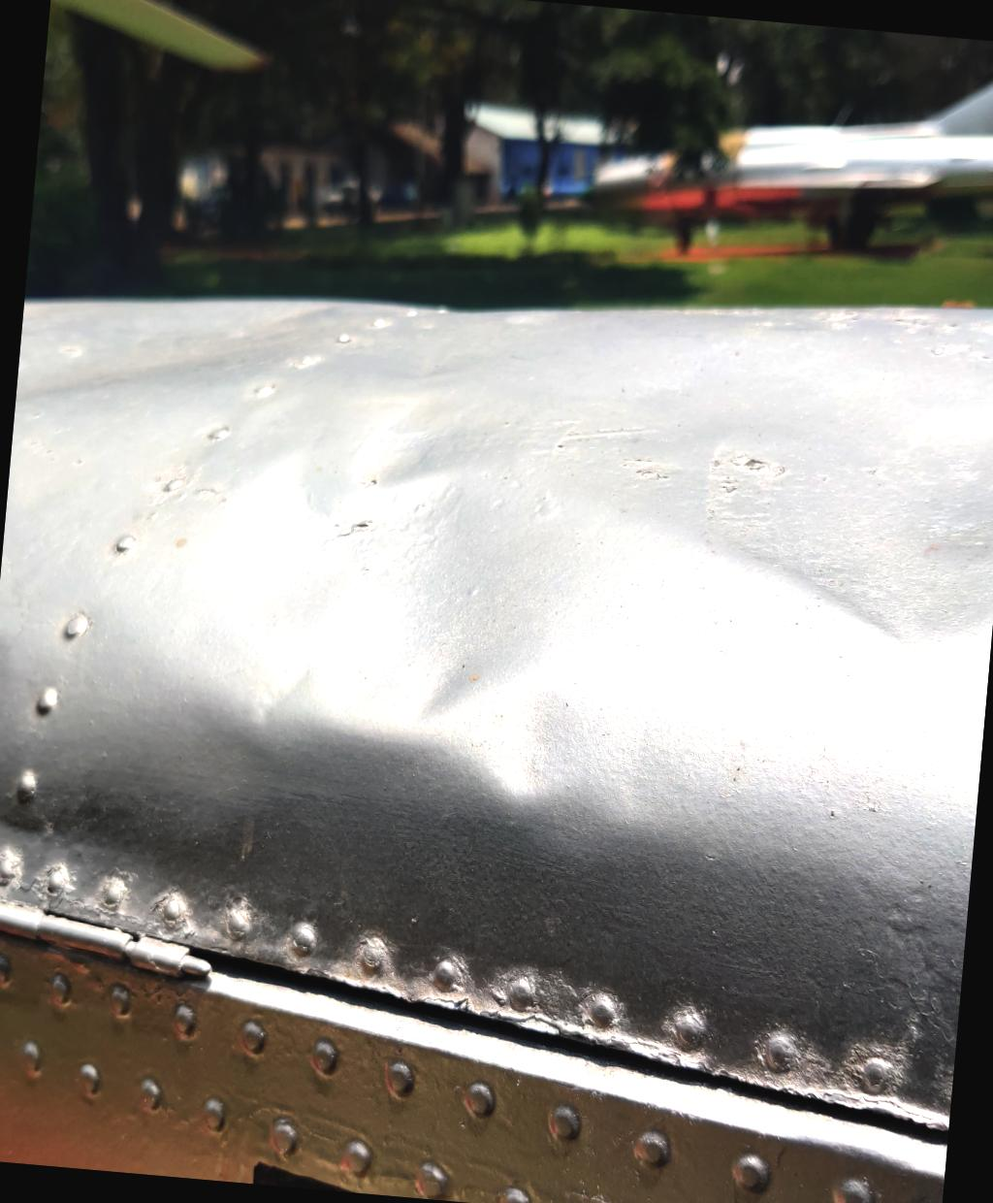dent: (114, 328, 683, 904)
